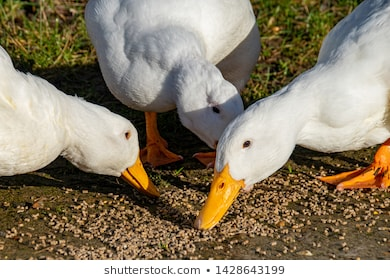duck: (179, 1, 390, 235), (1, 41, 175, 220)
